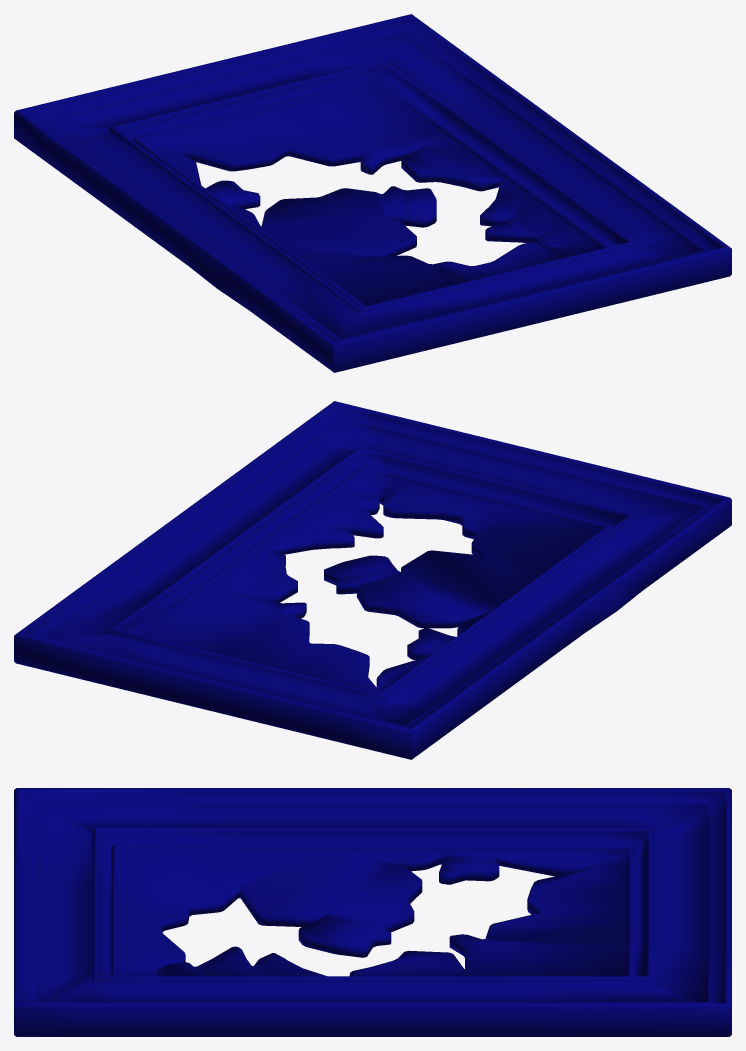
File: W1_Plafond_Salle_2_1.fbx
3 renders of one model, top to bottom at view 1: azimuth 30°, elevation 25°; view 2: azimuth 150°, elevation 25°; view 3: azimuth 270°, elevation 25°, orthographic. The views are drawn at different scales.
Parts seen in each view (by area): view 1: W1_Plafond_Salle_2_1; view 2: W1_Plafond_Salle_2_1; view 3: W1_Plafond_Salle_2_1.
Part boxes in pixels (x1,y1,x2,y2): W1_Plafond_Salle_2_1: [14, 14, 731, 372]; W1_Plafond_Salle_2_1: [14, 401, 731, 759]; W1_Plafond_Salle_2_1: [14, 788, 731, 1036].
Bounding box in the file's own units: 2300 × 160 × 3200.
